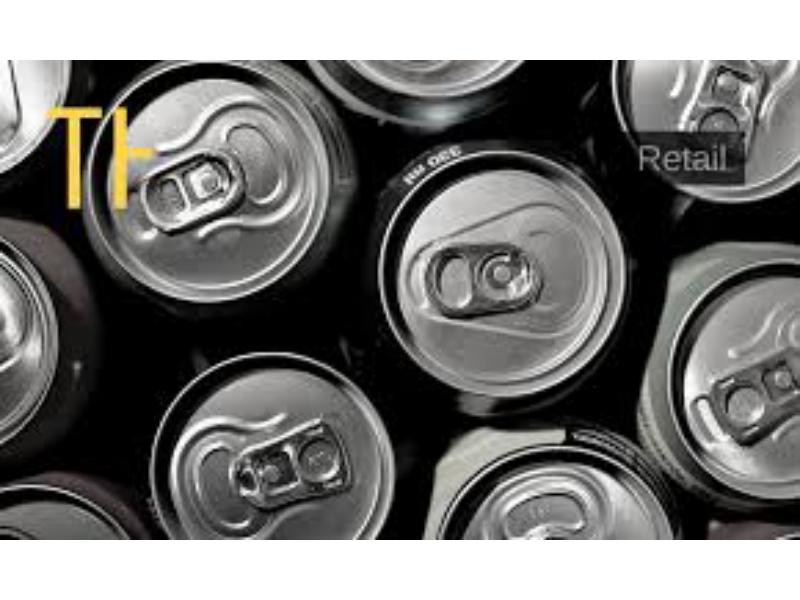can: (73, 54, 345, 314), (371, 134, 624, 399), (136, 348, 398, 539), (659, 229, 799, 499), (412, 421, 669, 545), (595, 58, 800, 210)
